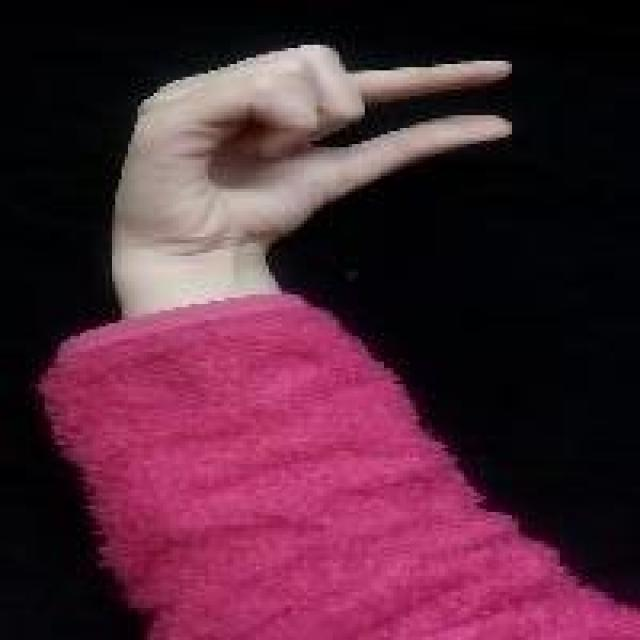G: (106, 40, 524, 258)
